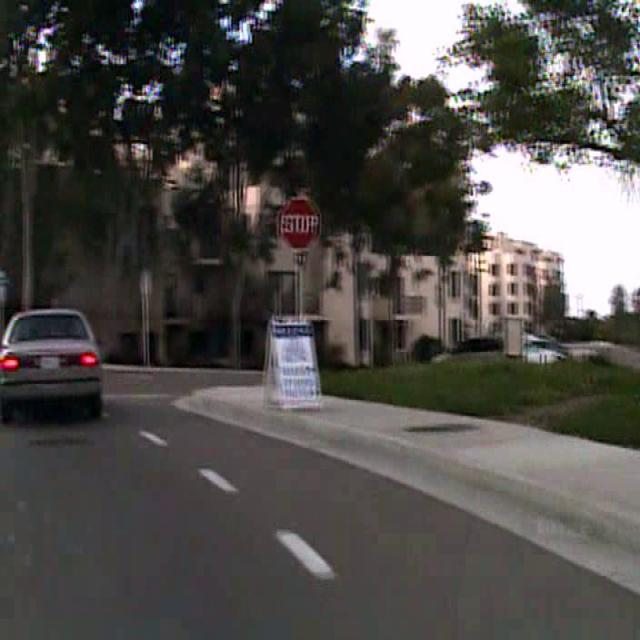stop_sign: (278, 194, 318, 250)
